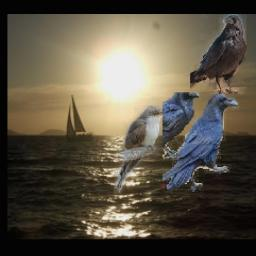Crow: (161, 93, 239, 193), (189, 15, 245, 95)
Cuckoo: (113, 106, 169, 194)
